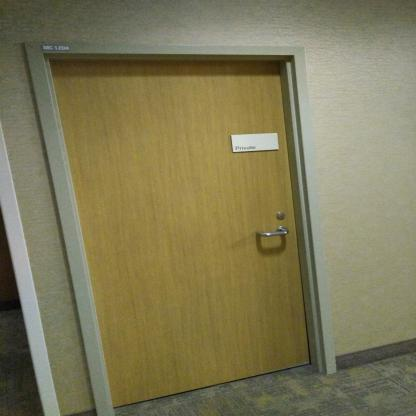door: (46, 57, 319, 380)
lever: (260, 227, 292, 240)
